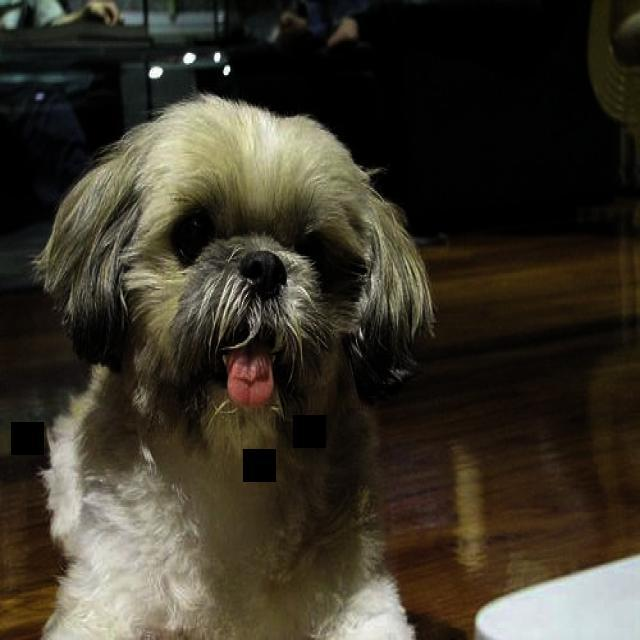adult_dog: (39, 91, 437, 640)
